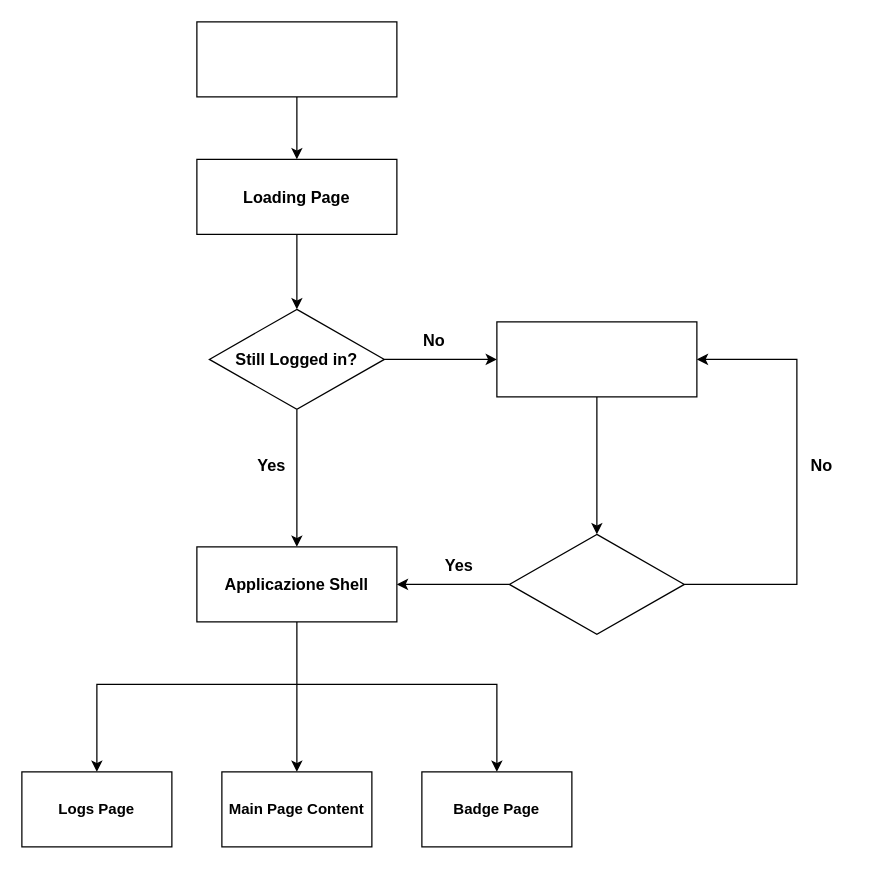
Some shapes in this 881 by 869 pixel diagram are drawn without their labels. Here are the shapes that lost their labels. From the top down, the centre of each, then its label:
point (296, 59): Main Page
point (596, 359): Login Page
point (596, 583): Logged in?
